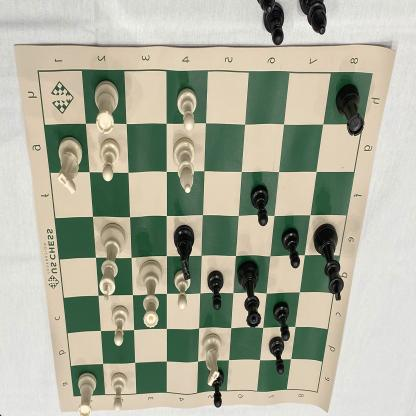black-king: (312, 220, 346, 306)
black-knight: (170, 221, 200, 280)
black-pawn: (247, 182, 271, 230), (271, 297, 294, 343), (280, 224, 302, 271), (204, 269, 227, 313), (205, 367, 227, 410), (265, 335, 287, 378)
black-queen: (235, 258, 266, 333)
black-rook: (332, 80, 366, 140)
white-bishop: (169, 135, 198, 198)
white-king: (95, 222, 128, 304)
white-knight: (54, 134, 85, 202)
white-pawn: (174, 86, 200, 134), (96, 139, 122, 184), (107, 304, 132, 348), (106, 370, 130, 414), (173, 269, 192, 311)
white-queen: (137, 259, 165, 332)
white-rook: (89, 78, 123, 137), (73, 369, 99, 416)
